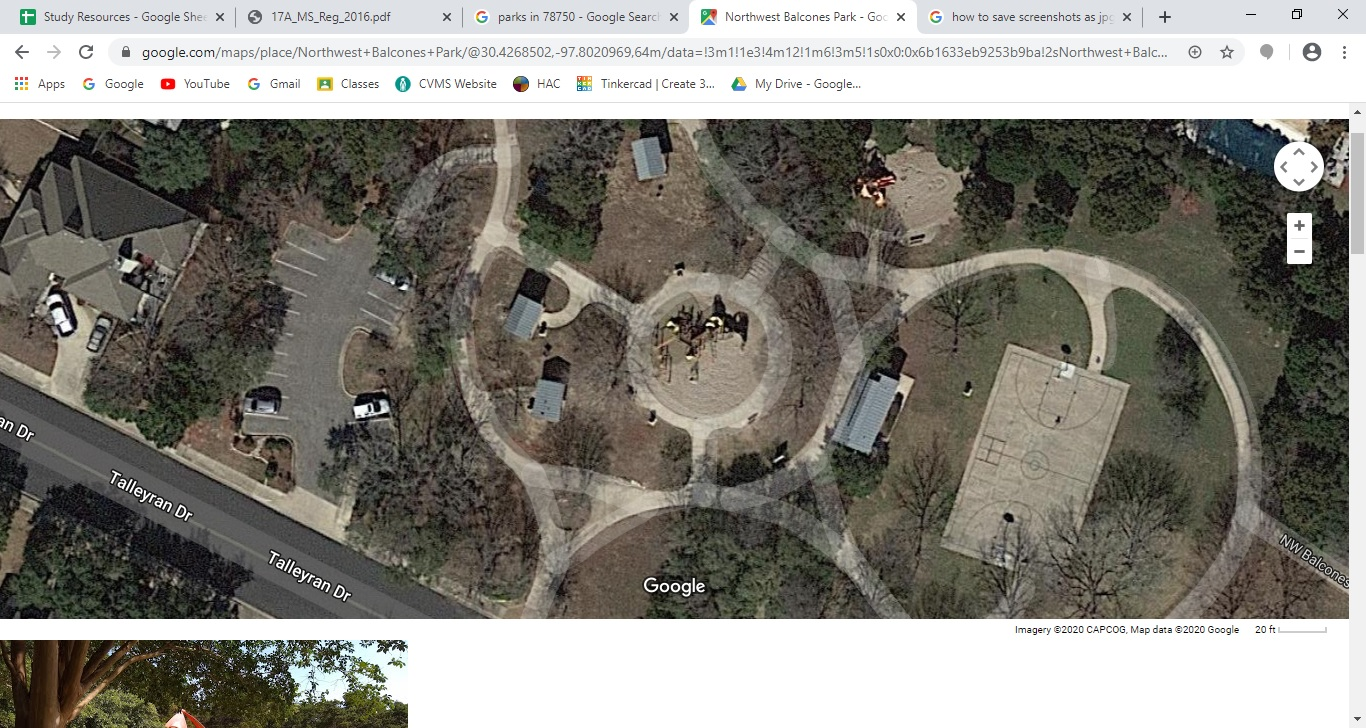playscape: (591, 274, 827, 462)
